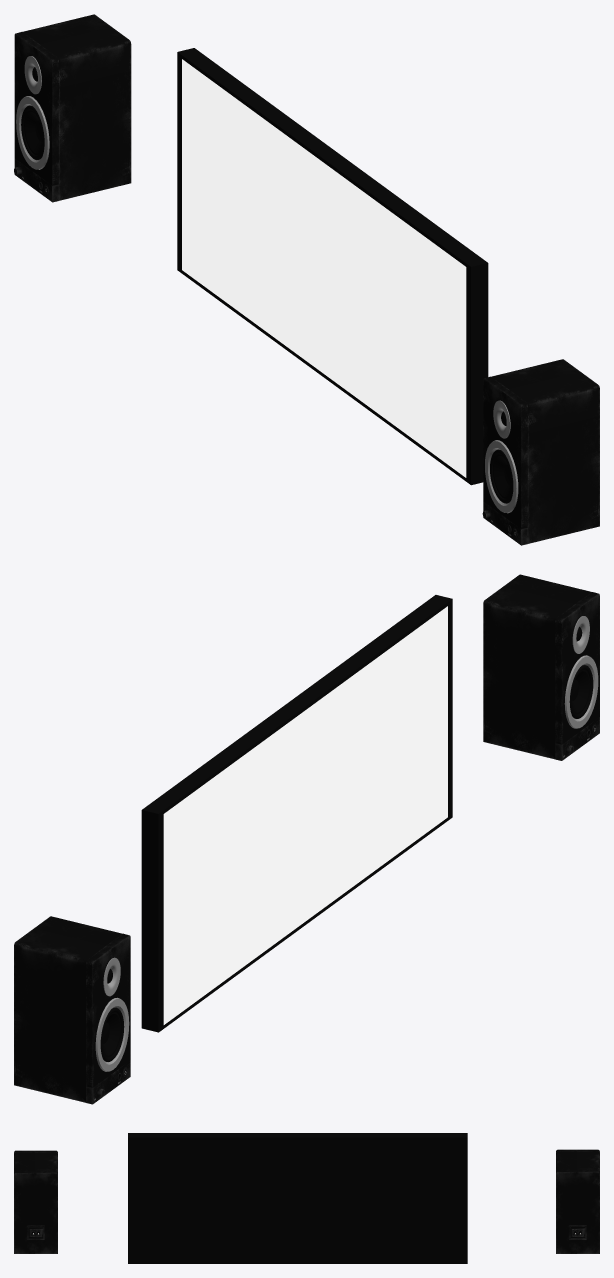
3 views of the same model, one above another, from view 1: azimuth 30°, elevation 25°; view 2: azimuth 150°, elevation 25°; view 3: azimuth 270°, elevation 25° (orthographic). The views are drawn at different scales.
Visible parts, largest first — view 1: Plane, speaker_04_SM, speaker_04_SM_speaker_04_0.001; view 2: Plane, speaker_04_SM, speaker_04_SM_speaker_04_0.001; view 3: Plane, speaker_04_SM, speaker_04_SM_speaker_04_0.001.
Boxes of the visible parts, x1,y1,x2,y2 form: Plane: [177, 48, 488, 485]; speaker_04_SM: [14, 14, 131, 202]; speaker_04_SM_speaker_04_0.001: [482, 359, 599, 545]; Plane: [141, 595, 452, 1032]; speaker_04_SM: [14, 916, 130, 1104]; speaker_04_SM_speaker_04_0.001: [483, 574, 599, 760]; Plane: [128, 1133, 467, 1263]; speaker_04_SM: [556, 1149, 599, 1253]; speaker_04_SM_speaker_04_0.001: [14, 1150, 57, 1253].
Size of the model in its own units: 3.04 by 7.54 by 31.74.
3 materials, 1 textured.
